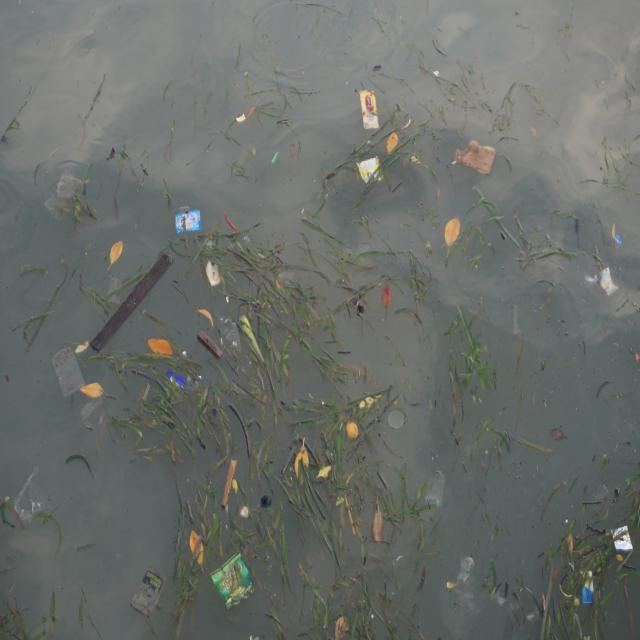Bungkus Makanan: (212, 552, 255, 611), (131, 565, 168, 618), (358, 87, 382, 132), (355, 156, 386, 186), (612, 526, 634, 558)
Bungkus Minuman: (427, 471, 447, 512)
Kantong Plastik: (52, 347, 88, 401)
